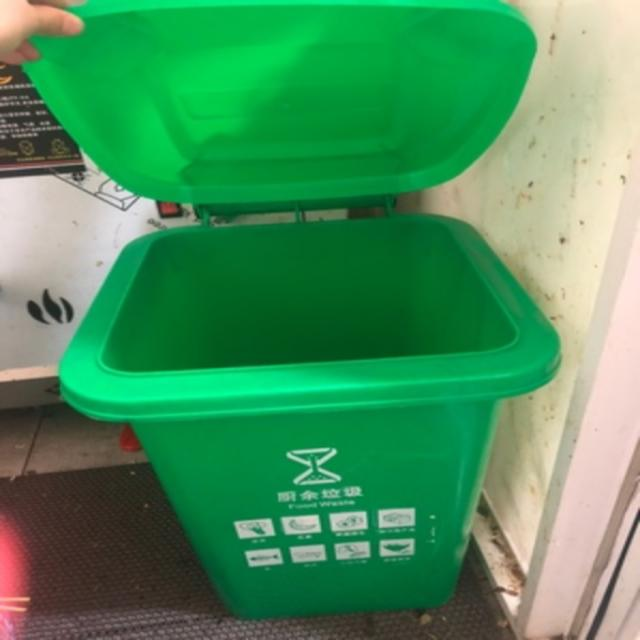ash bin: (19, 0, 561, 618)
